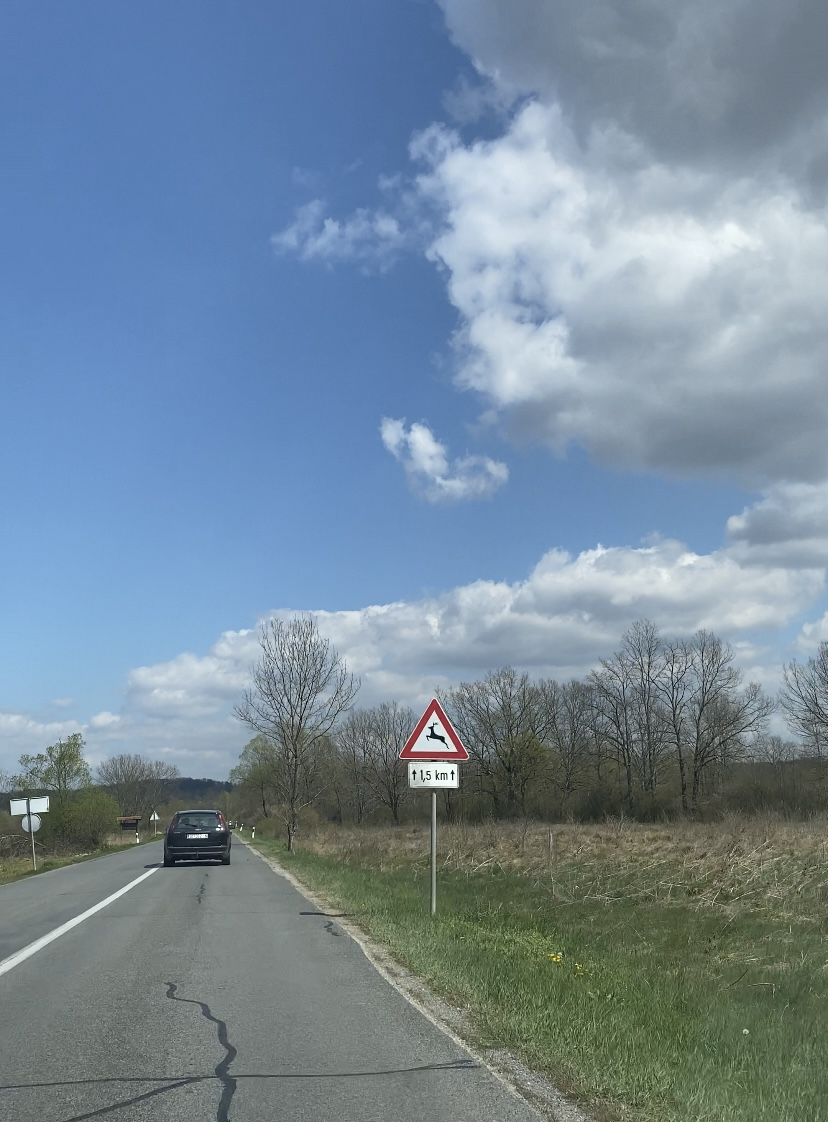Divljač na cesti: (398, 697, 470, 760)
